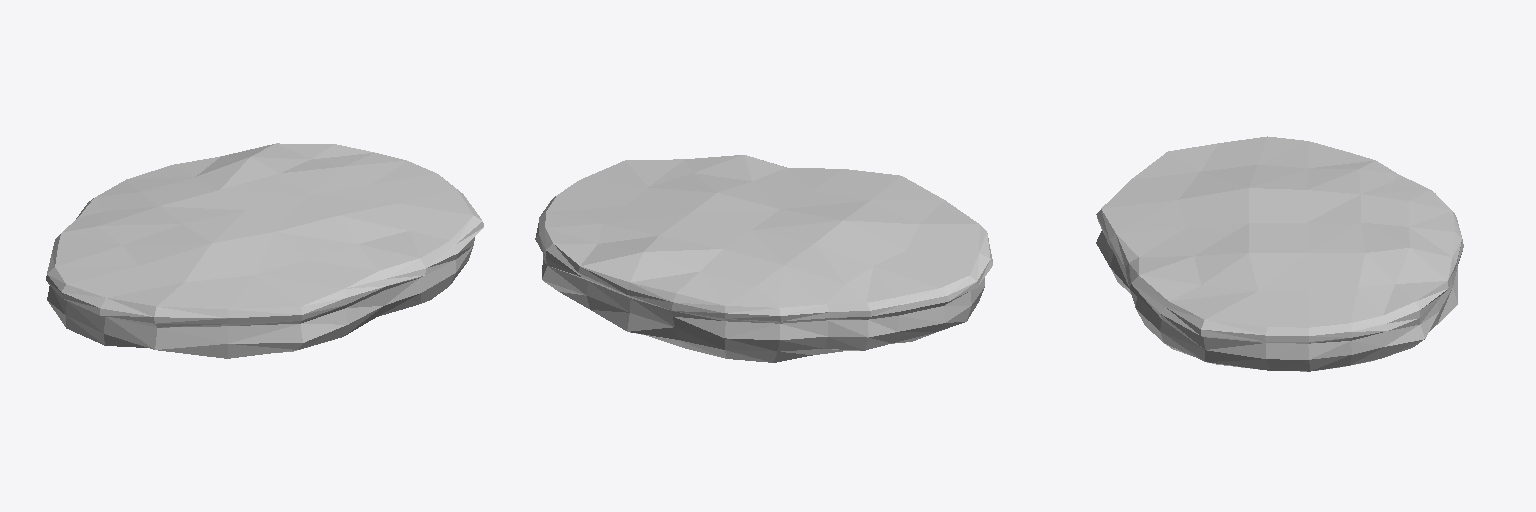
The model's file is Mesh_CavePack_Platform4_lod0.obj.
3 views of the same model, side by side, from view 1: azimuth 30°, elevation 25°; view 2: azimuth 150°, elevation 25°; view 3: azimuth 270°, elevation 25° (orthographic).
Parts seen in each view (by area): view 1: Cube_Cube.001; view 2: Cube_Cube.001; view 3: Cube_Cube.001.
Part boxes in pixels (x1,y1,x2,y2): Cube_Cube.001: (46, 143, 483, 358); Cube_Cube.001: (535, 155, 992, 362); Cube_Cube.001: (1096, 136, 1463, 371).
Size of the model in its own units: 11.58 by 2.12 by 9.13.